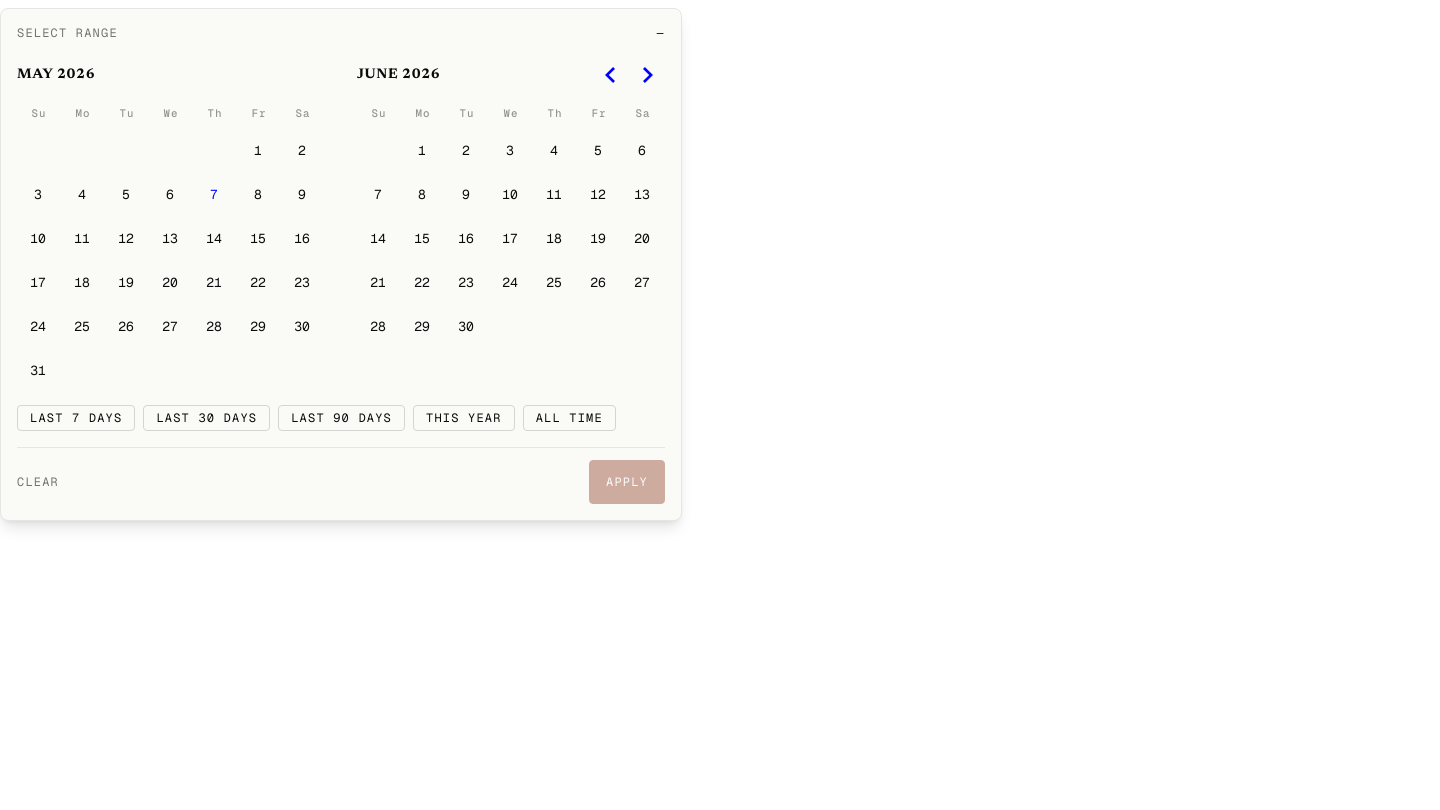
it: DateRangePopover › clicking Last 30 days preset updates the selected header label
This screenshot has width=1440, height=810.
Click the button "Last 30 days".
click(207, 418)  # box x1=143 y1=405 x2=270 y2=431
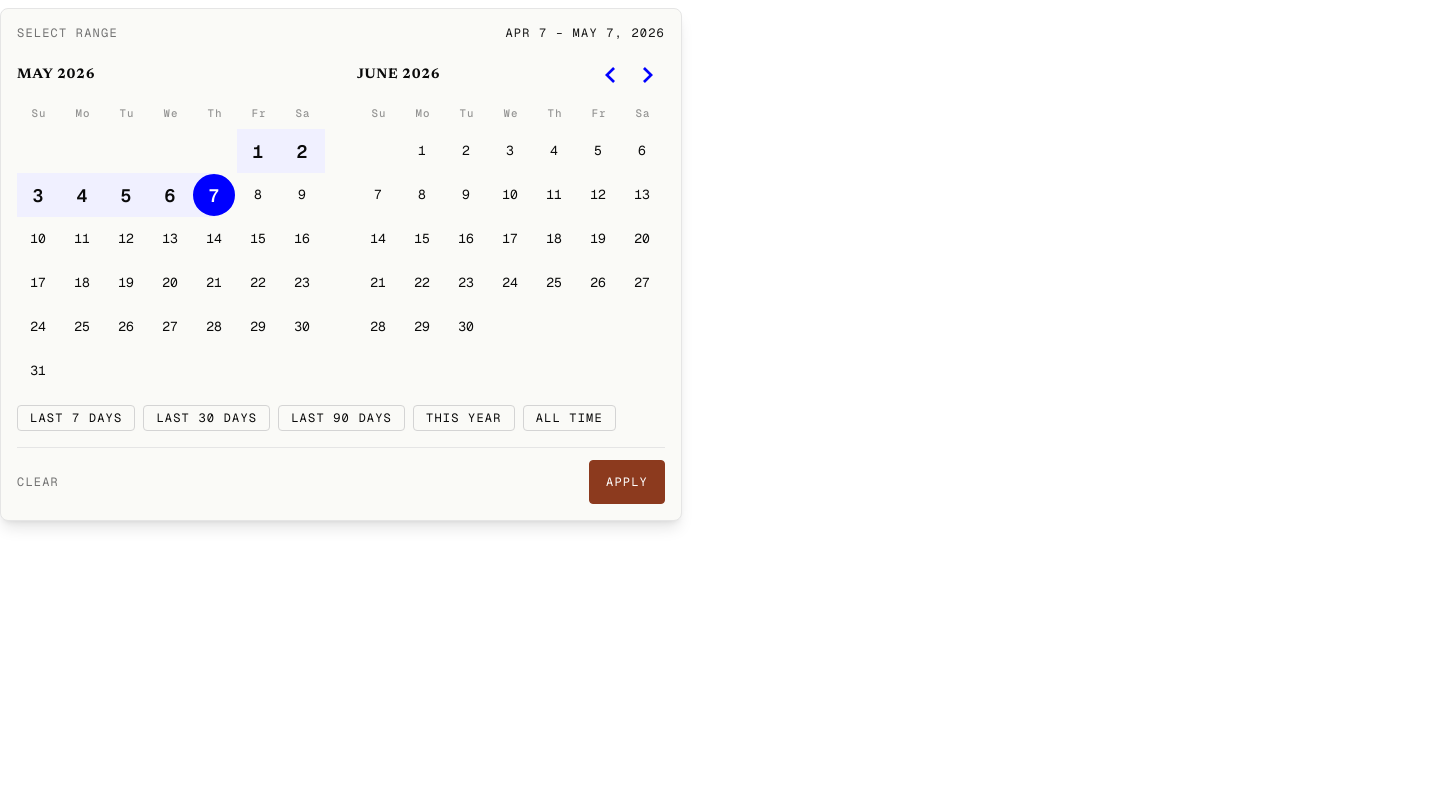
Expected: the text with test id "range-selected-label" no longer shows "—"
Expected: the text with test id "range-selected-label" shows "2026", x1=505 y1=25 x2=665 y2=41
